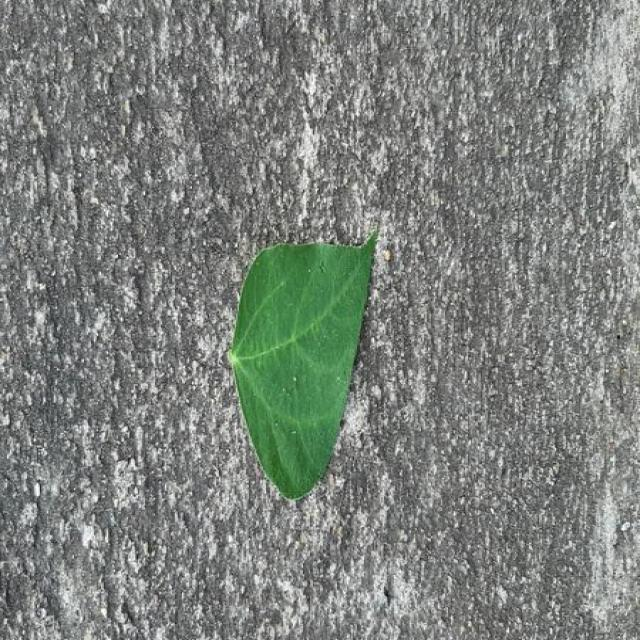beans: (228, 231, 376, 499)
